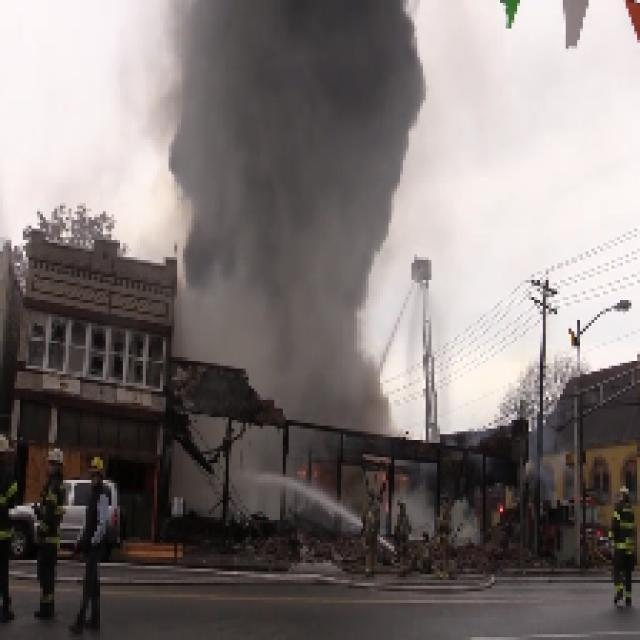Smoke: (167, 1, 407, 346)
